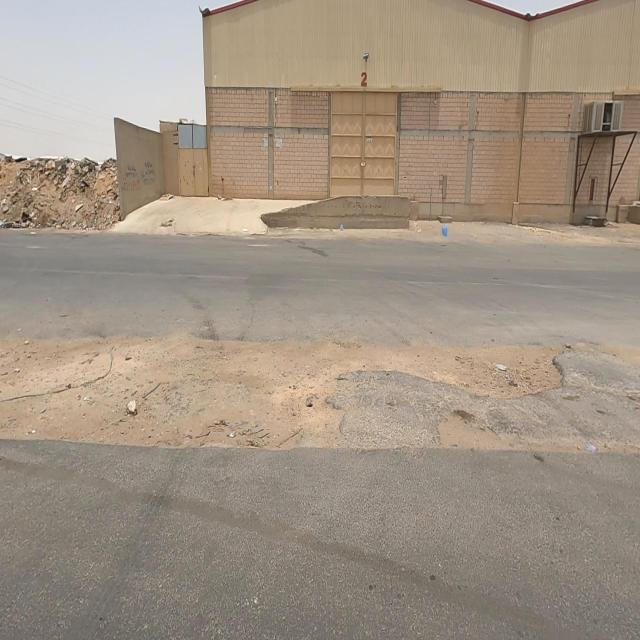Graffiti: (124, 158, 155, 197)
